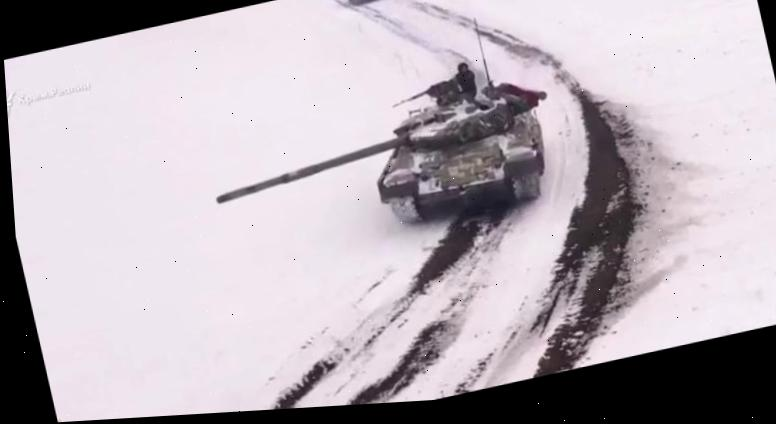tank: (193, 43, 574, 269)
